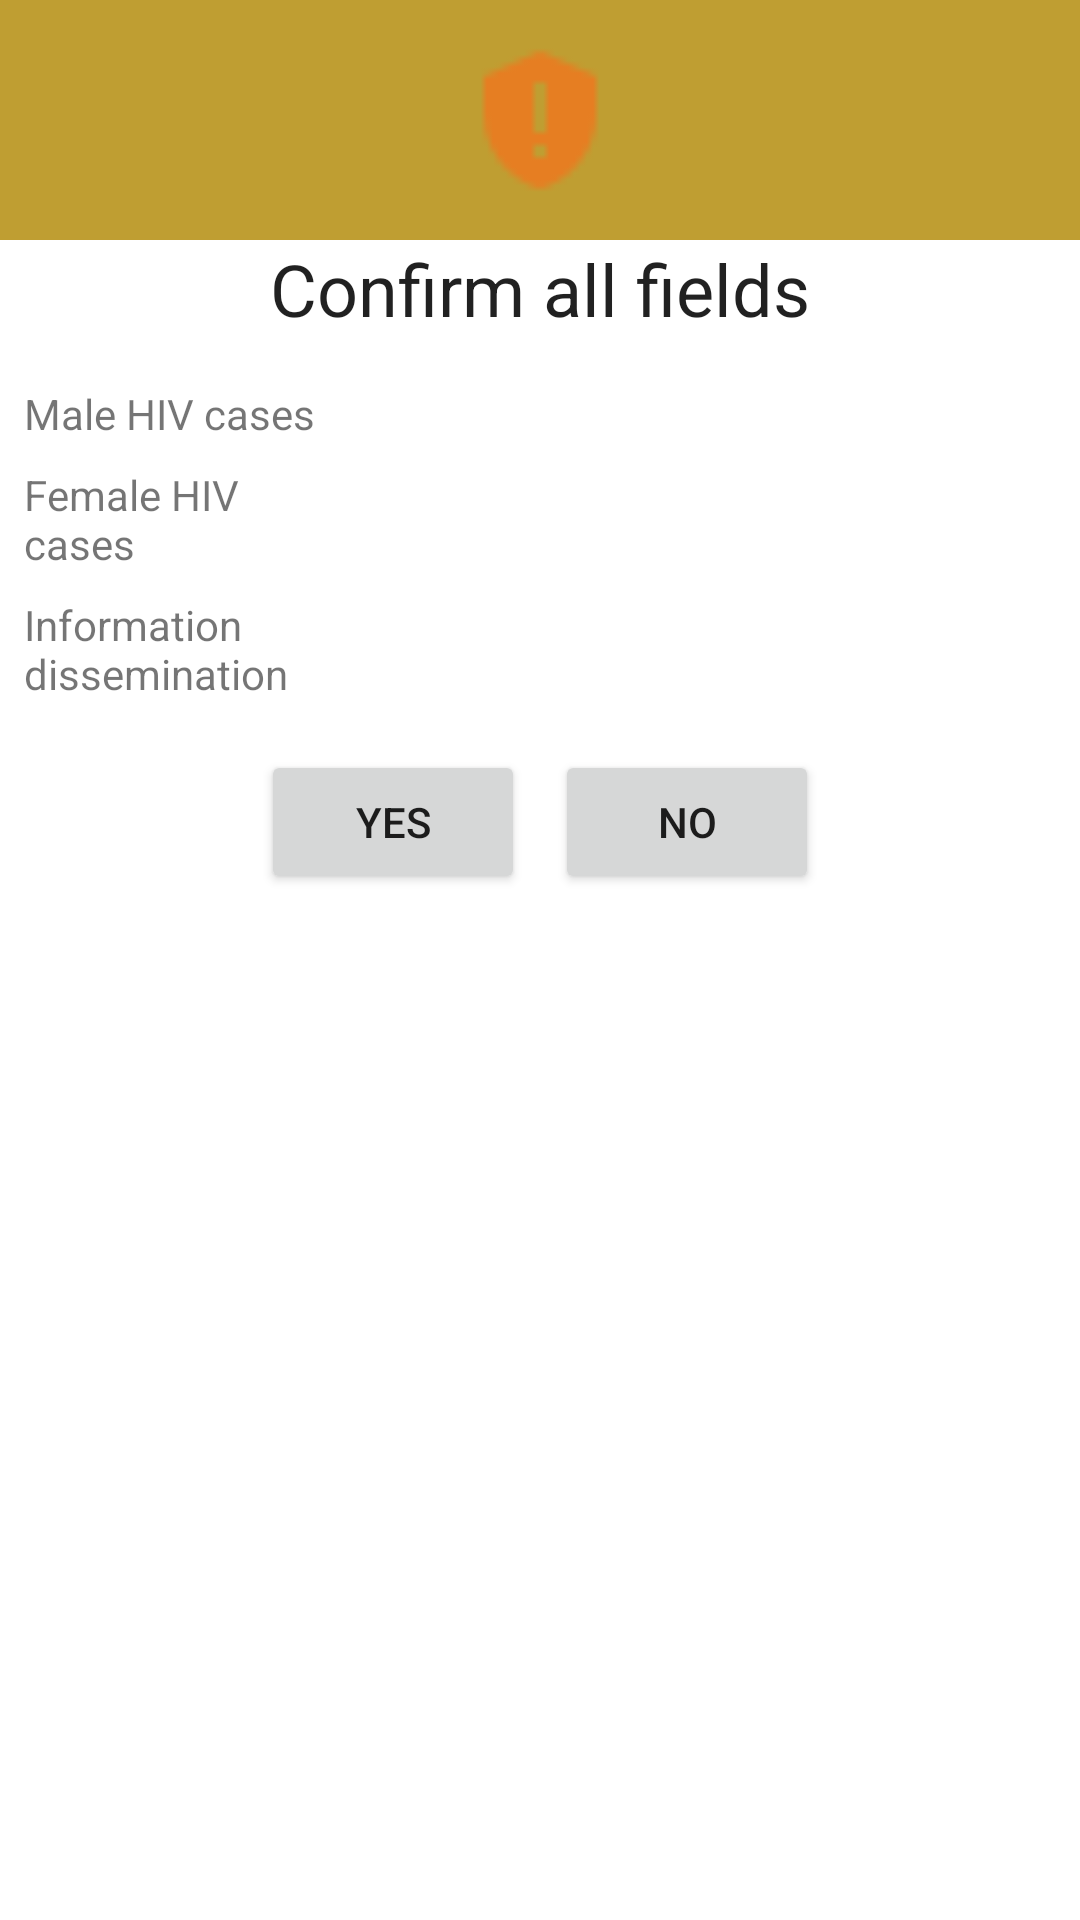

Where icons sit on this 1080px×1920px app screen, as bbox(x1, y1, x2, y2):
warning: bbox(485, 53, 596, 187)
